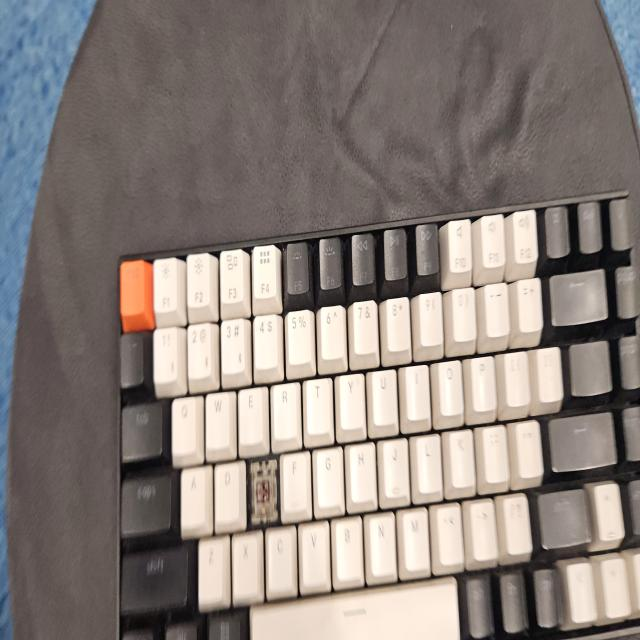C: (252, 462, 276, 518)
